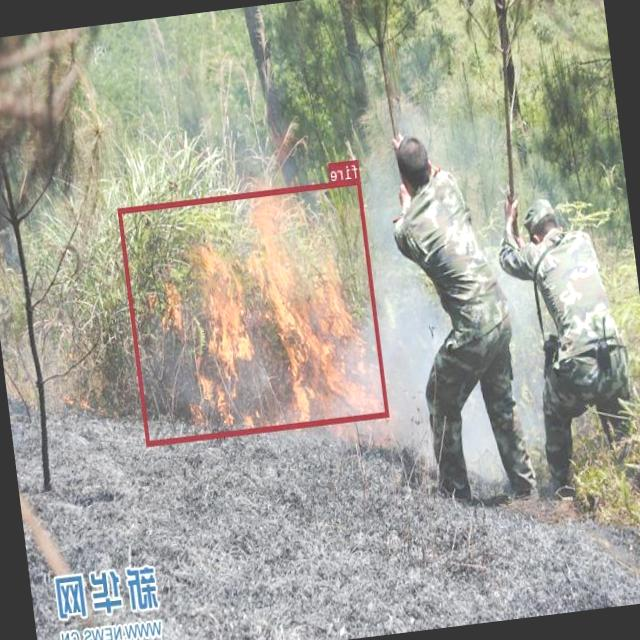fire: (118, 178, 390, 446)
